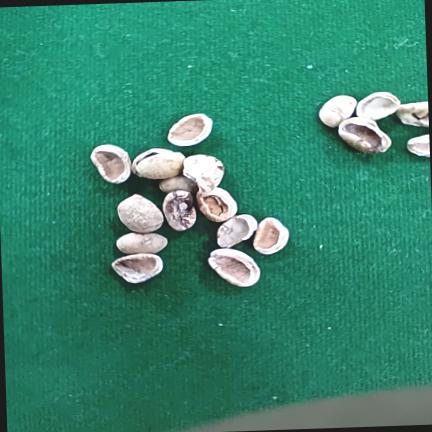shell: (208, 249, 260, 287), (338, 117, 391, 154), (118, 194, 164, 233), (90, 144, 131, 184), (111, 253, 163, 283), (183, 155, 224, 193), (196, 187, 237, 222), (168, 114, 212, 146), (163, 190, 196, 231), (253, 217, 289, 254), (136, 152, 185, 179), (217, 215, 255, 248), (356, 92, 400, 120), (319, 95, 356, 127), (132, 148, 173, 176), (116, 233, 167, 254), (396, 101, 429, 127), (159, 175, 197, 193), (407, 134, 430, 157)
